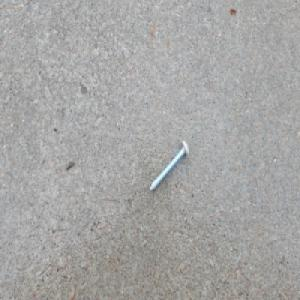Nail: (148, 139, 189, 195)
